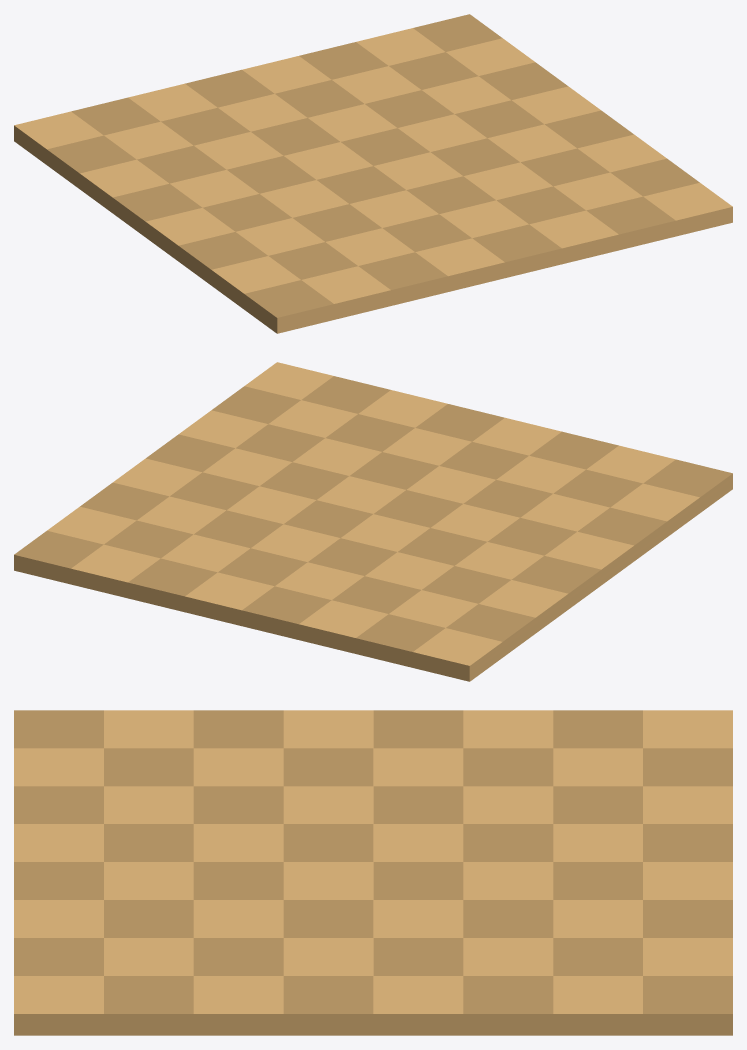
The model's file is Floor.fbx.
The picture shows the model from 3 angles, top to bottom: view 1: azimuth 30°, elevation 25°; view 2: azimuth 150°, elevation 25°; view 3: azimuth 270°, elevation 25°; orthographic projection. The views are drawn at different scales.
Visible parts, largest first — view 1: CommonFloor; view 2: CommonFloor; view 3: CommonFloor.
Part boxes in pixels (x1,y1,x2,y2): CommonFloor: (14, 14, 732, 333); CommonFloor: (14, 362, 732, 681); CommonFloor: (14, 710, 732, 1035).
Bounding box in the file's own units: 300 × 10 × 300.
